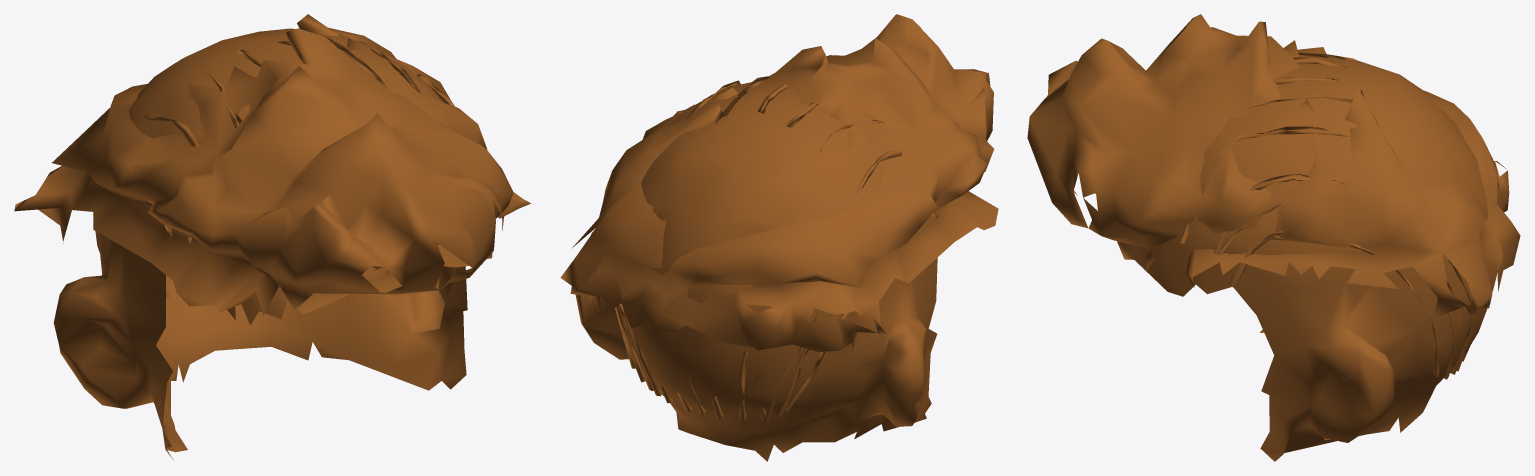
File: quiff.glb
3 views of the same model, side by side, from view 1: azimuth 30°, elevation 25°; view 2: azimuth 150°, elevation 25°; view 3: azimuth 270°, elevation 25° (orthographic). The views are drawn at different scales.
Parts seen in each view (by area): view 1: Hair, HairScalp, HairPulledRootStrands; view 2: Hair, HairScalp, HairPulledRootStrands; view 3: Hair, HairScalp, HairPulledRootStrands.
Part boxes in pixels (bbox=[...]): Hair: bbox=[14, 14, 531, 315]; HairScalp: bbox=[53, 28, 492, 459]; HairPulledRootStrands: bbox=[93, 35, 455, 299]; Hair: bbox=[560, 14, 998, 355]; HairScalp: bbox=[575, 81, 941, 461]; HairPulledRootStrands: bbox=[615, 76, 945, 422]; Hair: bbox=[1027, 14, 1520, 319]; HairScalp: bbox=[1117, 57, 1492, 461]; HairPulledRootStrands: bbox=[1179, 52, 1473, 379].
Bounding box in the file's own units: 0.459 × 0.4473 × 0.5339.
